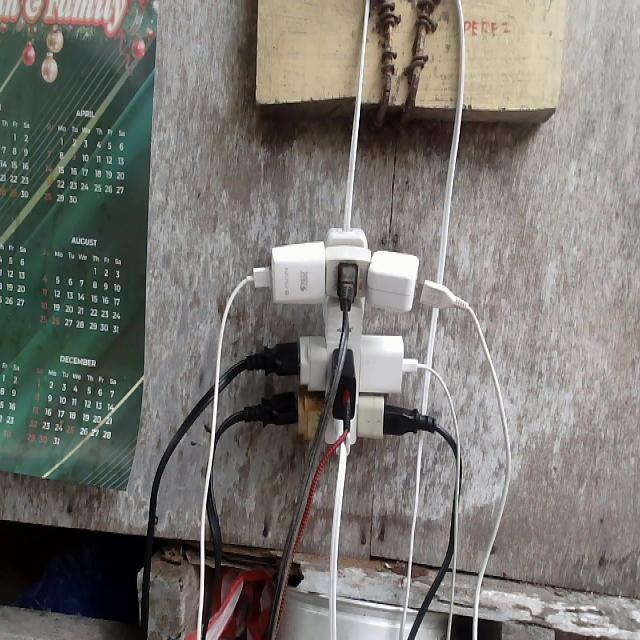-: (231, 218, 470, 470)
